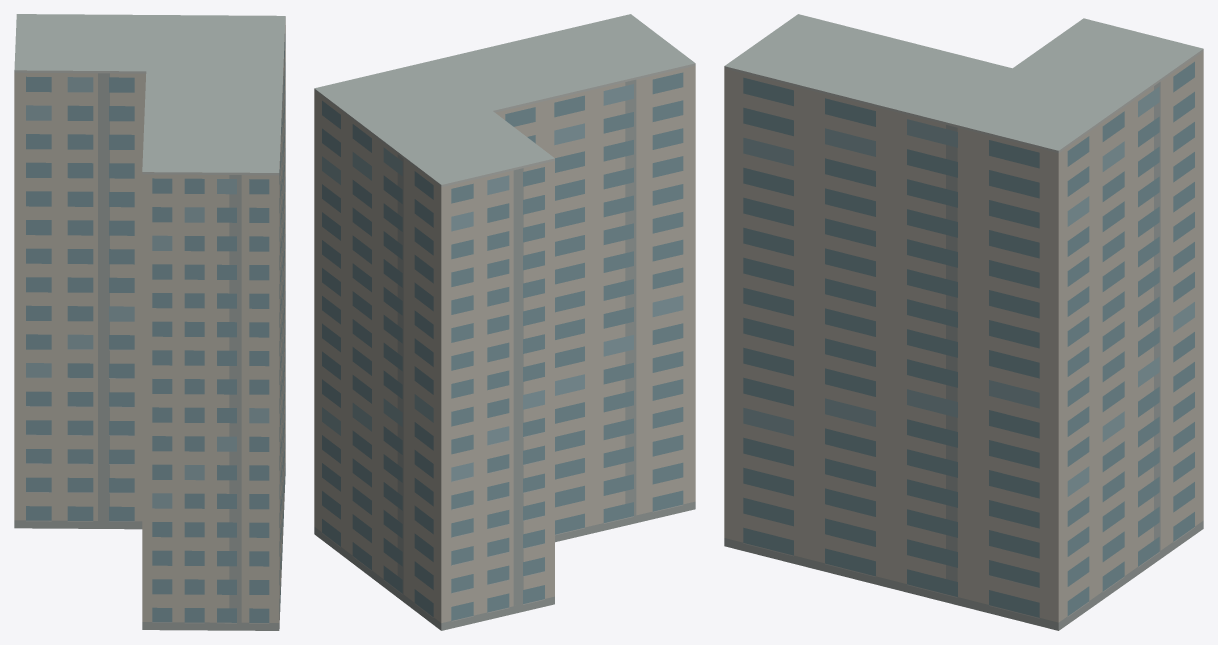
The model's file is residential-30263502-2ae6-46e7-8acf-fd4c574fade8.glb.
3 renders of one model, left to right at view 1: azimuth 30°, elevation 25°; view 2: azimuth 150°, elevation 25°; view 3: azimuth 270°, elevation 25°, orthographic. The views are drawn at different scales.
Parts seen in each view (by area): view 1: residential-30263502-2ae6-46e7-8acf-fd4c574fade8.tmp; view 2: residential-30263502-2ae6-46e7-8acf-fd4c574fade8.tmp; view 3: residential-30263502-2ae6-46e7-8acf-fd4c574fade8.tmp.
Part boxes in pixels (left/top/right/bottom): residential-30263502-2ae6-46e7-8acf-fd4c574fade8.tmp: left=14, top=14, right=285, bottom=630; residential-30263502-2ae6-46e7-8acf-fd4c574fade8.tmp: left=314, top=14, right=695, bottom=630; residential-30263502-2ae6-46e7-8acf-fd4c574fade8.tmp: left=724, top=14, right=1203, bottom=630.
Bounding box in the file's own units: 28.74 × 47 × 42.53.
